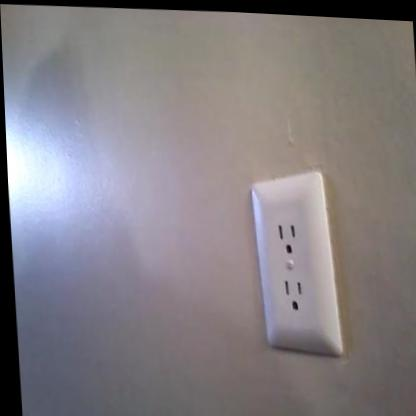OUTLET: (251, 172, 342, 355)
